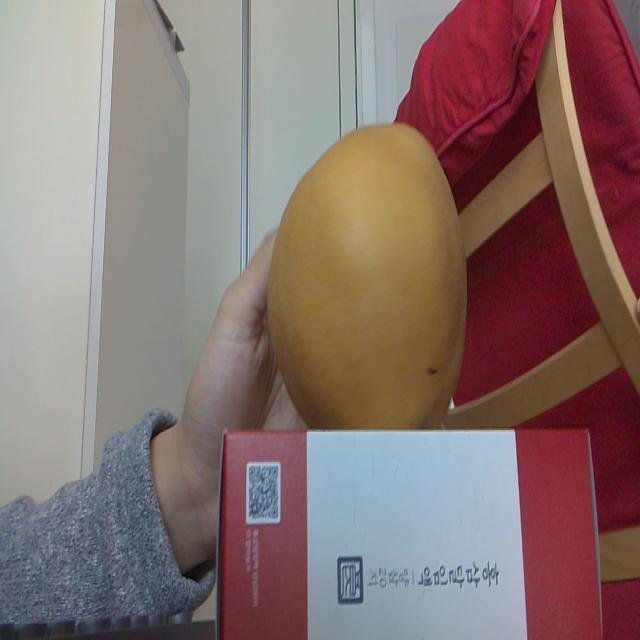pear: (268, 124, 468, 428)
